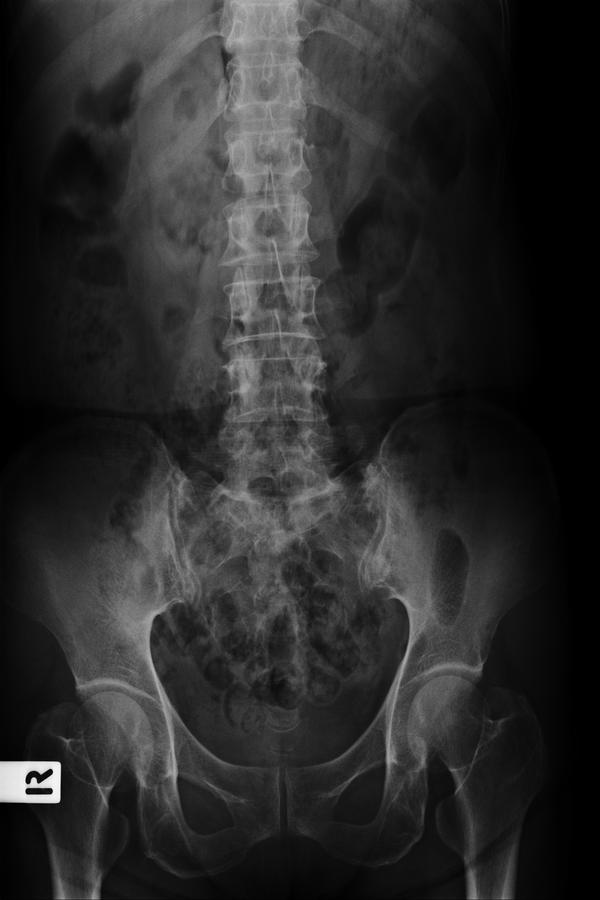not lumbar scoliosis: (218, 193, 331, 526)
